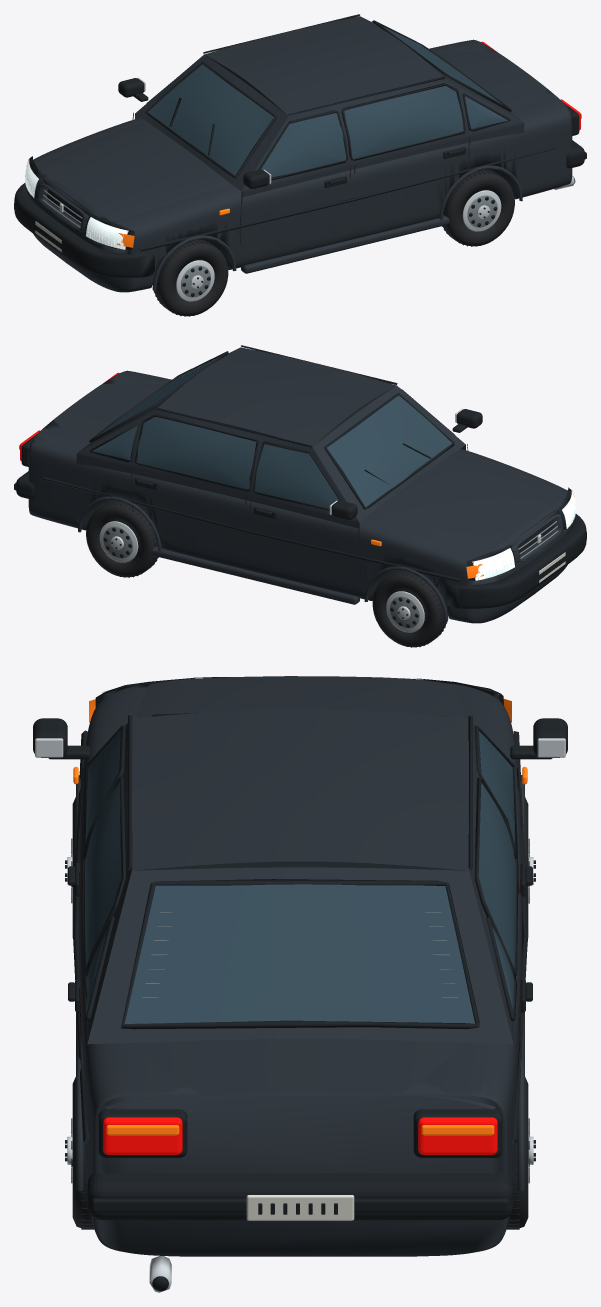
Rendered from ninety-nine.glb.
3 renders of one model, top to bottom at view 1: azimuth 30°, elevation 25°; view 2: azimuth 150°, elevation 25°; view 3: azimuth 270°, elevation 25°, orthographic. The views are drawn at different scales.
Parts seen in each view (by area): view 1: Body_Paint_ninety-nine, Body_Curved smoked glass.005, Body_Black trim.005, StockBumpers_Black trim.005, Wheel_FR_Tyre.005, Wheel_RR_Tyre.005, StockSkirts_Paint_ninety-nine, StockFenders_Paint_ninety-nine, Body_Prismatic headlight glass.005, Wheel_RR_Machined aluminium.005, Wheel_FR_Machined aluminium.005, Wheel_RR_Brake steel.005 (+2 smaller); view 2: Body_Paint_ninety-nine, Body_Curved smoked glass.005, Body_Black trim.005, StockBumpers_Black trim.005, Wheel_FL_Tyre.005, Wheel_RL_Tyre.005, StockSkirts_Paint_ninety-nine, StockFenders_Paint_ninety-nine, Body_Prismatic headlight glass.005, Wheel_RL_Machined aluminium.005, Wheel_FL_Machined aluminium.005, Wheel_RL_Brake steel.005 (+2 smaller); view 3: Body_Paint_ninety-nine, Body_Curved smoked glass.005, Body_Black trim.005, StockBumpers_Black trim.005, Body_Red lens.005, Body_Numberplate.005, StockFenders_Paint_ninety-nine, Body_Amber lens.005, Body_Machined aluminium.005, Wheel_RL_Tyre.005, Wheel_RR_Tyre.005.
Boxes of the visible parts, x1,y1,x2,y2 form: Body_Paint_ninety-nine: (27,16,572,292); Body_Curved smoked glass.005: (148,26,508,177); Body_Black trim.005: (27,14,579,251); StockBumpers_Black trim.005: (14,140,586,277); Wheel_FR_Tyre.005: (152,239,228,316); Wheel_RR_Tyre.005: (443,169,514,246); StockSkirts_Paint_ninety-nine: (241,215,449,273); StockFenders_Paint_ninety-nine: (152,165,522,290); Body_Prismatic headlight glass.005: (25,159,128,249); Wheel_RR_Machined aluminium.005: (462,190,501,231); Wheel_FR_Machined aluminium.005: (176,260,214,301); Wheel_RR_Brake steel.005: (467,195,497,227); Body_Paint_ninety-nine: (28,347,573,623); Body_Curved smoked glass.005: (92,357,451,508); Body_Black trim.005: (21,345,571,582); StockBumpers_Black trim.005: (14,471,586,608); Wheel_FL_Tyre.005: (372,570,446,647); Wheel_RL_Tyre.005: (86,500,157,577); StockSkirts_Paint_ninety-nine: (151,546,359,604); StockFenders_Paint_ninety-nine: (78,496,448,621); Body_Prismatic headlight glass.005: (472,490,575,580); Wheel_RL_Machined aluminium.005: (99,521,138,562); Wheel_FL_Machined aluminium.005: (386,591,424,632); Wheel_RL_Brake steel.005: (103,526,133,558); Body_Paint_ninety-nine: (78,676,522,1256); Body_Curved smoked glass.005: (85,731,515,1023); Body_Black trim.005: (33,677,567,1291); StockBumpers_Black trim.005: (87,1173,513,1220); Body_Red lens.005: (103,1117,497,1154); Body_Numberplate.005: (246,1195,354,1220); StockFenders_Paint_ninety-nine: (76,775,524,1191); Body_Amber lens.005: (73,699,527,1135); Body_Machined aluminium.005: (35,738,565,1292); Wheel_RL_Tyre.005: (507,1077,528,1228); Wheel_RR_Tyre.005: (72,1077,93,1228).
Bounding box in the file's own units: 4.21 × 1.4 × 1.99.
